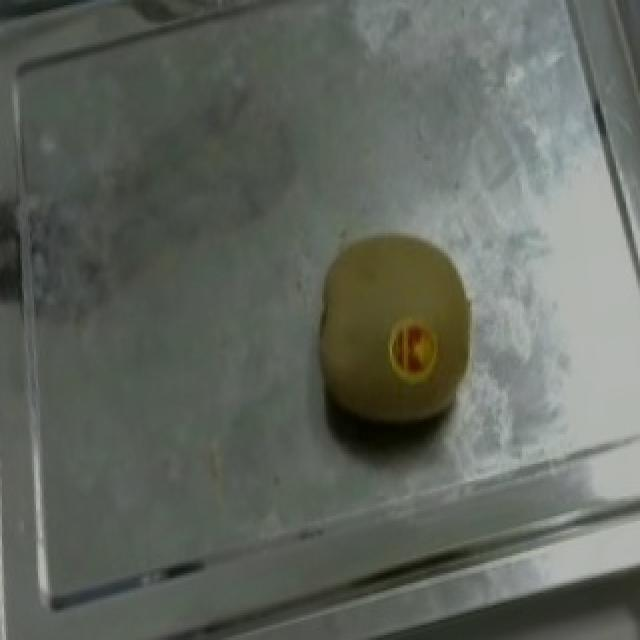Fruit: (282, 206, 512, 474), (0, 22, 62, 266)
